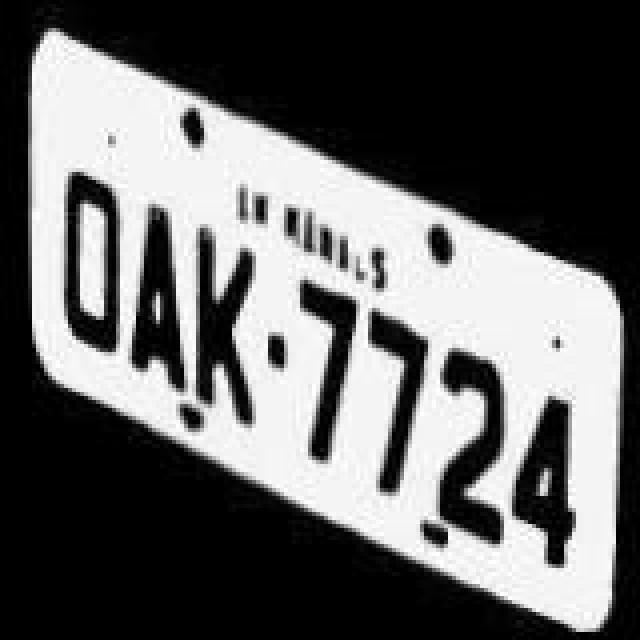2: (428, 348, 512, 556)
4: (504, 378, 588, 582)
7: (286, 274, 370, 474), (356, 310, 432, 506)
A: (116, 200, 188, 404)
K: (184, 222, 264, 434)
O: (48, 168, 128, 368)
